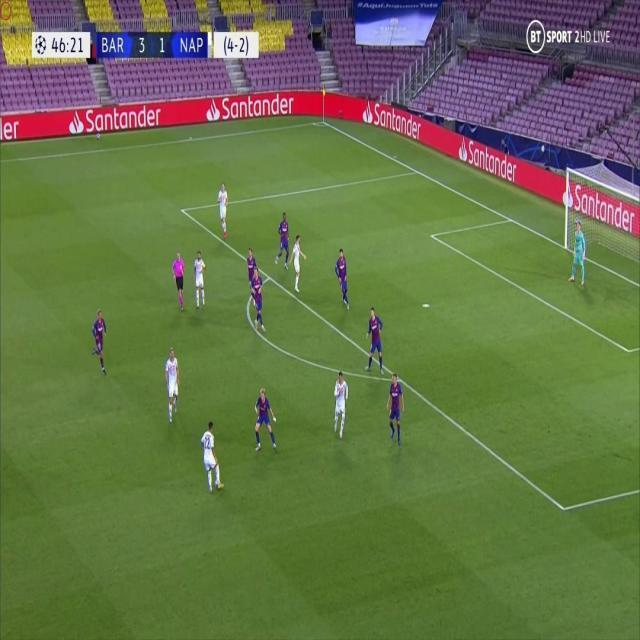ball: (215, 477, 222, 491)
goalkeeper: (569, 215, 588, 290)
player: (200, 416, 225, 495), (253, 386, 278, 453), (364, 303, 386, 377), (90, 306, 109, 376), (386, 368, 403, 442), (164, 346, 180, 422), (332, 368, 349, 439), (250, 268, 267, 335), (291, 233, 308, 293), (275, 211, 292, 270), (334, 246, 350, 307), (192, 248, 207, 310), (245, 248, 258, 308), (217, 178, 230, 238)
referee: (171, 247, 187, 311)
